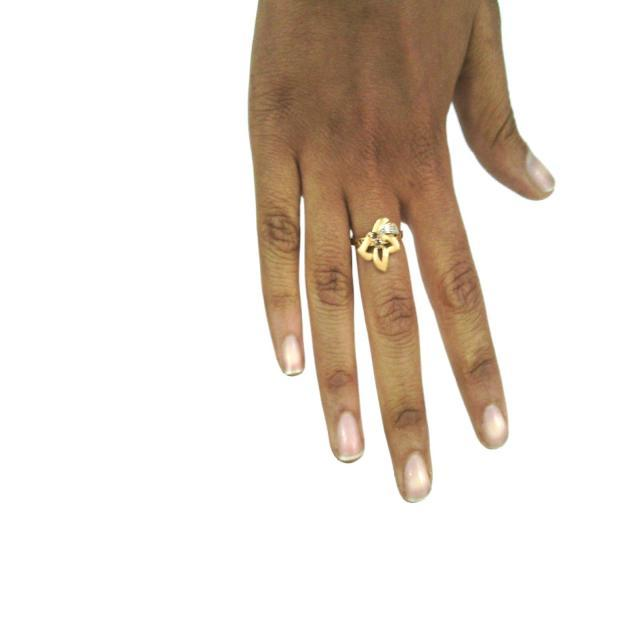Fingernail: (403, 452, 430, 502), (336, 411, 362, 462), (527, 152, 554, 193), (481, 405, 506, 448), (282, 336, 303, 375)
